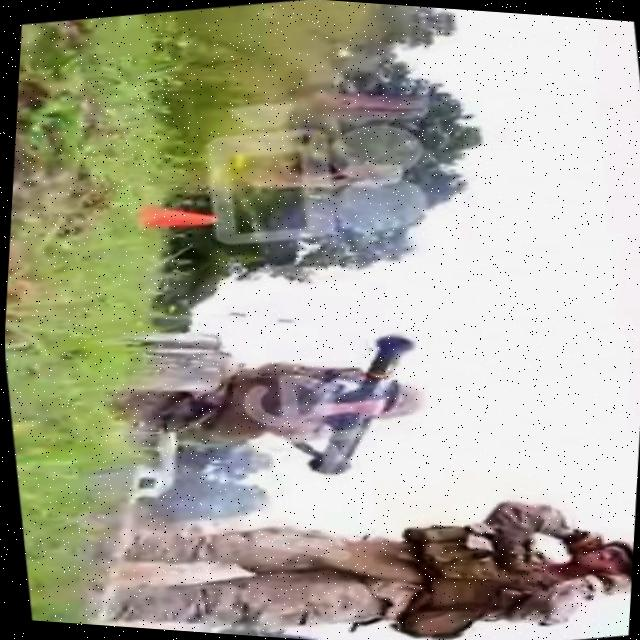rocket: (280, 330, 432, 484)
